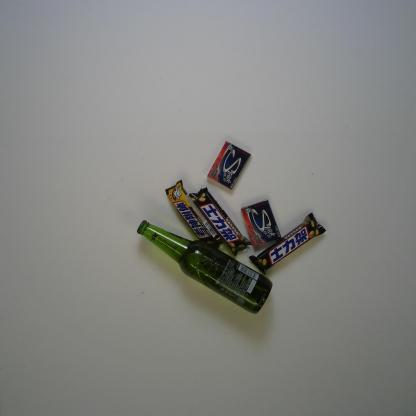Alcohol: (136, 219, 274, 314)
Chocolate: (248, 212, 327, 276), (188, 186, 252, 258), (164, 178, 226, 249)
Gum: (207, 141, 252, 190), (240, 198, 282, 247)
